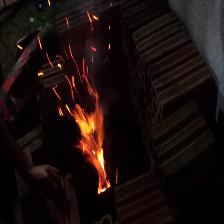fire: (46, 53, 126, 197)
